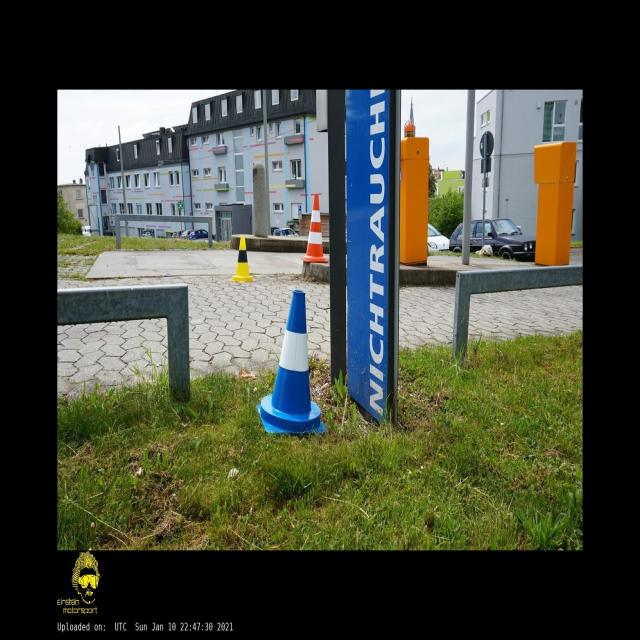blue_cone: (256, 291, 326, 433)
large_orange_cone: (300, 194, 328, 262)
yellow_cone: (230, 236, 254, 282)
